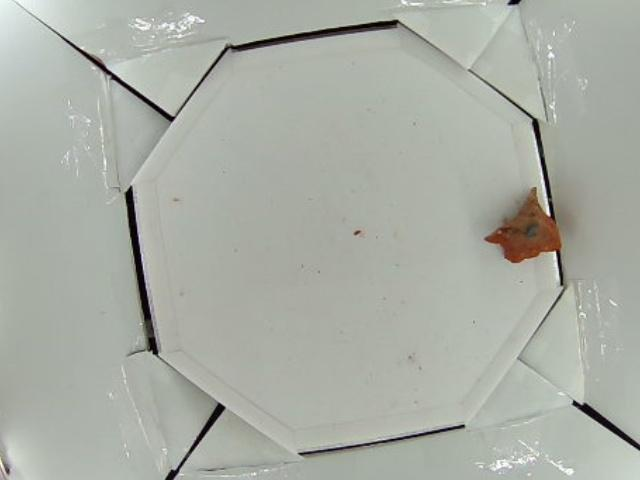Brisk: (486, 185, 563, 263)
